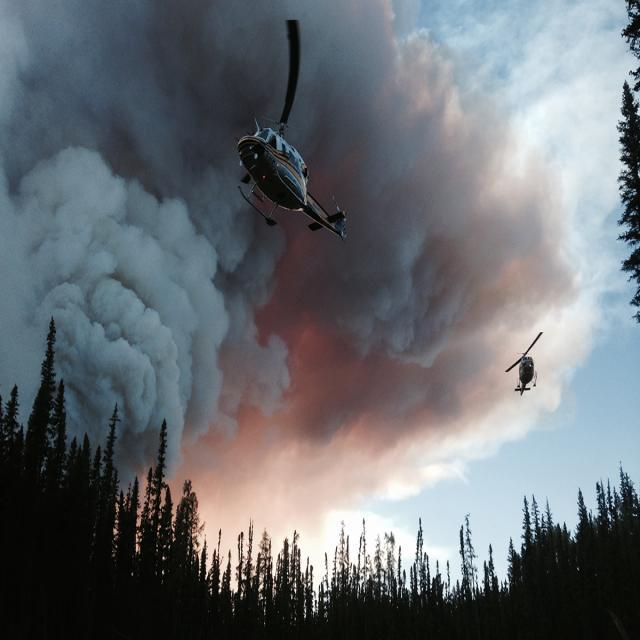Smoke: (270, 0, 518, 434), (5, 0, 254, 430)
